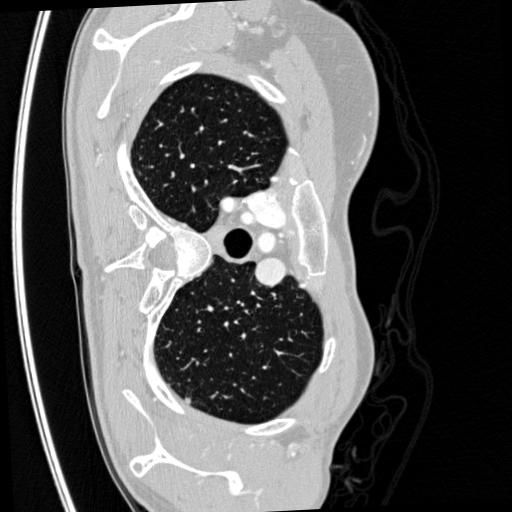nodule: (183, 397, 195, 409)
